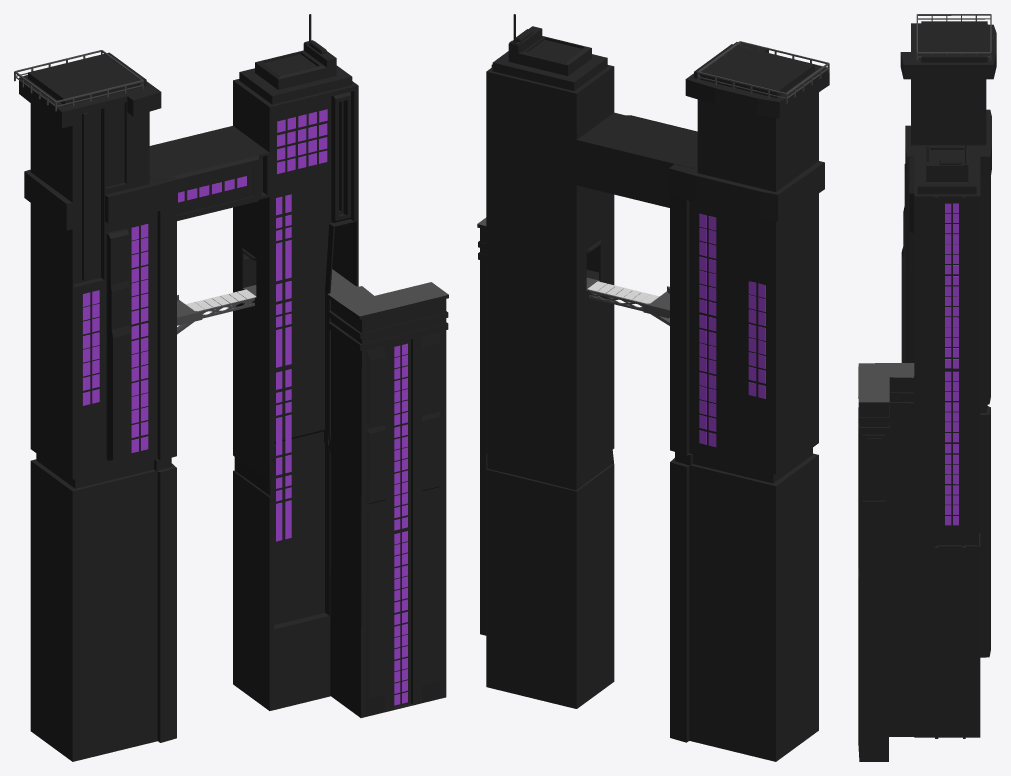
Rendered from BuildingTower 1.fbx.
3 views of the same model, side by side, from view 1: azimuth 30°, elevation 25°; view 2: azimuth 150°, elevation 25°; view 3: azimuth 270°, elevation 25° (orthographic). The views are drawn at different scales.
Parts seen in each view (by area): view 1: Cube, Cube.002, Cube.003, Cube.063, Cube.004, Cube.009, Tower_A_Roof_Rails.001; view 2: Cube, Cube.002, Cube.005, Cube.003, Tower_A_Roof_Rails.001, Bridge_Surface_Details.001; view 3: Cube.002, Cube.003, Cube, Cube.001, Tower_A_Roof_Rails.001.
Part boxes in pixels (x1,y1,x2,y2): Cube: (19,52,177,761); Cube.002: (149,14,358,710); Cube.003: (243,269,448,717); Cube.063: (178,109,327,541); Cube.004: (82,224,148,453); Cube.009: (394,343,407,705); Tower_A_Roof_Rails.001: (14,50,143,111); Cube: (668,42,829,761); Cube.002: (486,14,697,708); Cube.005: (699,213,765,446); Cube.003: (477,217,599,635); Tower_A_Roof_Rails.001: (697,41,829,103); Bridge_Surface_Details.001: (587,281,659,303); Cube.002: (909,138,980,738); Cube.003: (858,363,935,761); Cube: (900,21,996,657); Cube.001: (945,203,958,525); Tower_A_Roof_Rails.001: (916,14,991,60).
Size of the model in its own units: 40814 by 71116 by 15053.
